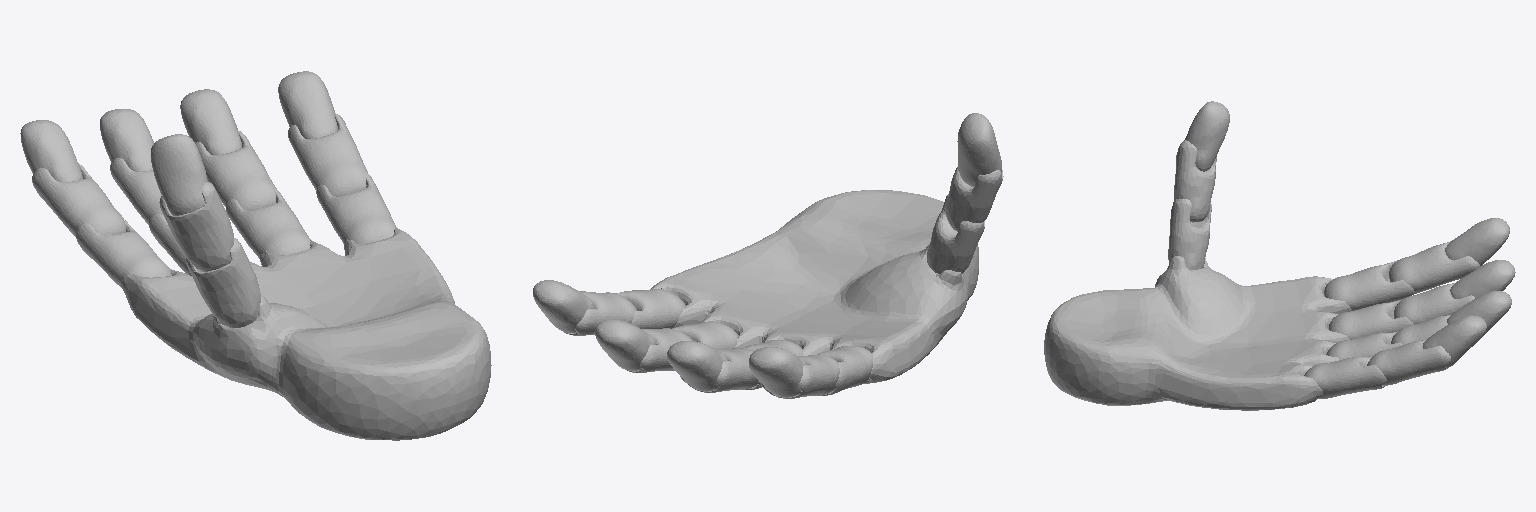
The robot description file, URDF, robot "vr_hand_vhacd_left":
<robot name="vr_hand_vhacd_left">
 <link name="base">
		<inertial>
      <origin xyz="0 -0 0" rpy="-0 0 -0"/>
      <mass value="0.12" />
      <inertia ixx="9.46434e-06" ixy="-0.0" ixz="0.0" iyy="1.22209e-05" iyz="2.49433e-17" izz="1.71183e-05"/>
    </inertial>
	</link>

  <link name="palm">
    <inertial>
      <origin xyz="0 -0 0" rpy="-0 0 -0"/>
      <mass value="0.12"/>
      <inertia ixx="9.46434e-06" ixy="-0.0" ixz="0.0" iyy="1.22209e-05" iyz="2.49433e-17" izz="1.71183e-05"/>
    </inertial>
    <visual>
      <origin xyz="0 -0 0" rpy="-0 0 -0"/>
      <geometry>
        <mesh filename="meshes/palm_mirrored.obj" scale="0.001 0.001 0.001"/>
      </geometry>
      <material name="palm_color">
        <color rgba="0.74902 0.74902 0.74902 1.0"/>
      </material>
    </visual>
    <collision>
      <origin xyz="0 -0 0" rpy="-0 0 -0"/>
      <geometry>
        <mesh filename="vhacd_meshes/palm_mirrored.obj" scale="0.001 0.001 0.001"/>
      </geometry>
    </collision>
  </link>

  <joint name="palm__base" type="fixed">
		<origin xyz="0 -0 0" rpy="-0 0 -0"/>
		<parent link="base"/>
		<child link="palm"/>
  	</joint>
  
  <link name="Rproximal">
    <inertial>
      <origin xyz="-0.00506265498327 -0.000178411167835 -0.0113952992502" rpy="-0 0 -0"/>
      <mass value="0.0046468"/>
      <inertia ixx="3.60659e-07" ixy="-2.95375e-10" ixz="3.96643e-12" iyy="4.02251e-07" iyz="-7.4602e-09" izz="1.59669e-07"/>
    </inertial>
    <visual>
      <origin xyz="0.00532660458173 0.00134315858259 -0.0128298354943" rpy="-0 0 -0"/>
      <geometry>
        <mesh filename="meshes/seg_L_mirrored.obj" scale="0.001 0.001 0.001"/>
      </geometry>
      <material name="Rproximal_color">
        <color rgba="0.74902 0.74902 0.74902 1.0"/>
      </material>
    </visual>
    <collision>
      <origin xyz="0.00532660458173 0.00134315858259 -0.0128298354943" rpy="-0 0 -0"/>
      <geometry>
        <mesh filename="vhacd_meshes/seg_L_mirrored.obj" scale="0.001 0.001 0.001"/>
      </geometry>
    </collision>
  </link>
  
  <joint name="Rproximal__palm" type="revolute">
    <origin xyz="0.017963 0.079365 0.00148931" rpy="1.83998062112 -0.070428847363 -0.101332262919"/>
    <axis xyz="1.00000007251 -8.46220030541e-08 -1.44225053858e-07"/>
    <parent link="base"/>
    <child link="Rproximal"/>
    <limit effort="0.5" lower="0.0" upper="1.4835298642" velocity="1.0"/>
    <dynamics damping="0.1"/>
  </joint>
  
  <link name="Rmiddle">
    <inertial>
      <origin xyz="-0.0050627375168 -0.000178703837342 -0.0113961050151" rpy="-0 0 -0"/>
      <mass value="0.0046468"/>
      <inertia ixx="3.60659e-07" ixy="-2.95375e-10" ixz="3.96643e-12" iyy="4.02251e-07" iyz="-7.4602e-09" izz="1.59669e-07"/>
    </inertial>
    <visual>
      <origin xyz="0.00532662722179 0.00134303584663 -0.0128300831679" rpy="-0 0 -0"/>
      <geometry>
        <mesh filename="meshes/seg_finger_tip_mirrored.obj" scale="0.001 0.001 0.001"/>
      </geometry>
      <material name="Rmiddle_color">
        <color rgba="0.74902 0.74902 0.74902 1.0"/>
      </material>
    </visual>
    <collision>
      <origin xyz="0.00532662722179 0.00134303584663 -0.0128300831679" rpy="-0 0 -0"/>
      <geometry>
        <mesh filename="vhacd_meshes/seg_finger_tip_mirrored.obj" scale="0.001 0.001 0.001"/>
      </geometry>
    </collision>
  </link>
  
  <joint name="Rmiddle__Rproximal" type="revolute">
    <origin xyz="0 -0 -0.0258747809103" rpy="0.0872670609142 0 -2.76912342671e-07"/>
    <axis xyz="1.00000007251 1.72767385245e-07 -2.31542720386e-07"/>
    <parent link="Rproximal"/>
    <child link="Rmiddle"/>
    <limit effort="0.5" lower="0.0" upper="1.4835298642" velocity="1.0"/>
    <dynamics damping="0.1"/>
  </joint>
  
  <link name="Mproximal">
    <inertial>
      <origin xyz="-0.00506268032219 -0.000178369758776 -0.0113951959251" rpy="-0 0 -0"/>
      <mass value="0.0046468"/>
      <inertia ixx="3.60659e-07" ixy="-2.95375e-10" ixz="3.96643e-12" iyy="4.02251e-07" iyz="-7.4602e-09" izz="1.59669e-07"/>
    </inertial>
    <visual>
      <origin xyz="0.00532660055243 0.00134318776557 -0.0128295627043" rpy="-0 0 -0"/>
      <geometry>
        <mesh filename="meshes/seg_L_mirrored.obj" scale="0.001 0.001 0.001"/>
      </geometry>
      <material name="Mproximal_color">
        <color rgba="0.74902 0.74902 0.74902 1.0"/>
      </material>
    </visual>
    <collision>
      <origin xyz="0.00532660055243 0.00134318776557 -0.0128295627043" rpy="-0 0 -0"/>
      <geometry>
        <mesh filename="vhacd_meshes/seg_L_mirrored.obj" scale="0.001 0.001 0.001"/>
      </geometry>
    </collision>
  </link>
  
  <joint name="Mproximal__palm" type="revolute">
    <origin xyz="-0.00678586 0.080973 0.00076618" rpy="1.83324870939 0.0859369188285 0.0151906736407"/>
    <axis xyz="1.00000030441 -5.71235363176e-07 -2.22119205119e-07"/>
    <parent link="base"/>
    <child link="Mproximal"/>
    <limit effort="0.5" lower="0.0" upper="1.4835298642" velocity="1.0"/>
    <dynamics damping="0.1"/>
  </joint>
  
  <link name="Mmiddle">
    <inertial>
      <origin xyz="-0.00506269201108 -0.000178473714736 -0.0113956264739" rpy="-0 0 -0"/>
      <mass value="0.0046468"/>
      <inertia ixx="3.60659e-07" ixy="-2.95375e-10" ixz="3.96643e-12" iyy="4.02251e-07" iyz="-7.4602e-09" izz="1.59669e-07"/>
    </inertial>
    <visual>
      <origin xyz="0.00532662940519 0.001342939287 -0.012830098266" rpy="-0 0 -0"/>
      <geometry>
        <mesh filename="meshes/seg_finger_tip_mirrored.obj" scale="0.001 0.001 0.001"/>
      </geometry>
      <material name="Mmiddle_color">
        <color rgba="0.74902 0.74902 0.74902 1.0"/>
      </material>
    </visual>
    <collision>
      <origin xyz="0.00532662940519 0.001342939287 -0.012830098266" rpy="-0 0 -0"/>
      <geometry>
        <mesh filename="vhacd_meshes/seg_finger_tip_mirrored.obj" scale="0.001 0.001 0.001"/>
      </geometry>
    </collision>
  </link>
  
  <joint name="Mmiddle__Mproximal" type="revolute">
    <origin xyz="0 2.41651877793e-07 -0.0258742142625" rpy="0.0872661749543 2.70259221066e-07 -3.1679265362e-07"/>
    <axis xyz="1.00000030441 -2.49278715942e-07 7.0132973715e-08"/>
    <parent link="Mproximal"/>
    <child link="Mmiddle"/>
    <limit effort="0.5" lower="0.0" upper="1.4835298642" velocity="1.0"/>
    <dynamics damping="0.1"/>
  </joint>
  
  <link name="Pproximal">
    <inertial>
      <origin xyz="-0.00506265004772 -0.000178471691603 -0.0113954440839" rpy="-0 0 -0"/>
      <mass value="0.0046468"/>
      <inertia ixx="3.60659e-07" ixy="-2.95375e-10" ixz="3.96643e-12" iyy="4.02251e-07" iyz="-7.4602e-09" izz="1.59669e-07"/>
    </inertial>
    <visual>
      <origin xyz="0.00532669695333 0.00134327559708 -0.0128292006118" rpy="-0 0 -0"/>
      <geometry>
        <mesh filename="meshes/seg_L_mirrored.obj" scale="0.001 0.001 0.001"/>
      </geometry>
      <material name="Pproximal_color">
        <color rgba="0.74902 0.74902 0.74902 1.0"/>
      </material>
    </visual>
    <collision>
      <origin xyz="0.00532669695333 0.00134327559708 -0.0128292006118" rpy="-0 0 -0"/>
      <geometry>
        <mesh filename="vhacd_meshes/seg_L_mirrored.obj" scale="0.001 0.001 0.001"/>
      </geometry>
    </collision>
  </link>
  
  <joint name="Pproximal__palm" type="revolute">
    <origin xyz="0.0426264 0.070128 0.0038631" rpy="1.86212856709 -0.138702648968 -0.204065548896"/>
    <axis xyz="0.999999718358 -2.63813422101e-07 1.77932631934e-07"/>
    <parent link="base"/>
    <child link="Pproximal"/>
    <limit effort="0.5" lower="0.0" upper="1.4835298642" velocity="1.0"/>
    <dynamics damping="0.1"/>
  </joint>
  
  <link name="Pmiddle">
    <inertial>
      <origin xyz="-0.00506271792241 -0.000178454269957 -0.0113956275282" rpy="-0 0 -0"/>
      <mass value="0.0046468"/>
      <inertia ixx="3.60659e-07" ixy="-2.95375e-10" ixz="3.96643e-12" iyy="4.02251e-07" iyz="-7.4602e-09" izz="1.59669e-07"/>
    </inertial>
    <visual>
      <origin xyz="0.00532646642137 0.00134299429342 -0.0128302748856" rpy="-0 0 -0"/>
      <geometry>
        <mesh filename="meshes/seg_finger_tip_mirrored.obj" scale="0.001 0.001 0.001"/>
      </geometry>
      <material name="Pmiddle_color">
        <color rgba="0.74902 0.74902 0.74902 1.0"/>
      </material>
    </visual>
    <collision>
      <origin xyz="0.00532646642137 0.00134299429342 -0.0128302748856" rpy="-0 0 -0"/>
      <geometry>
        <mesh filename="vhacd_meshes/seg_finger_tip_mirrored.obj" scale="0.001 0.001 0.001"/>
      </geometry>
    </collision>
  </link>
  
  <joint name="Pmiddle__Pproximal" type="revolute">
    <origin xyz="1.71429768873e-07 -0 -0.0258743732015" rpy="0.0872666026479 1.06320174575e-07 -0"/>
    <axis xyz="0.999999718358 -2.69819360882e-07 3.08944752836e-07"/>
    <parent link="Pproximal"/>
    <child link="Pmiddle"/>
    <limit effort="0.5" lower="0.0" upper="1.4835298642" velocity="1.0"/>
    <dynamics damping="0.1"/>
  </joint>
  
  <link name="Tproximal">
    <inertial>
      <origin xyz="-0.00509118037371 0.000108367330619 -0.00917567646424" rpy="-0 0 -0"/>
      <mass value="0.00379261"/>
      <inertia ixx="3.44891e-07" ixy="5.85841e-09" ixz="-1.40349e-09" iyy="2.90581e-07" iyz="9.57879e-09" izz="2.1814e-07"/>
    </inertial>
    <visual>
      <origin xyz="-0.00506247937312 -1.51098425411e-07 -0.00864845498031" rpy="-0 0 -0"/>
      <geometry>
        <mesh filename="meshes/seg_M_mirrored.obj" scale="0.001 0.001 0.001"/>
      </geometry>
      <material name="Tproximal_color">
        <color rgba="0.74902 0.74902 0.74902 1.0"/>
      </material>
    </visual>
    <collision>
      <origin xyz="-0.00506247937312 -1.51098425411e-07 -0.00864845498031" rpy="-0 0 -0"/>
      <geometry>
        <mesh filename="vhacd_meshes/seg_M_mirrored.obj" scale="0.001 0.001 0.001"/>
      </geometry>
    </collision>
  </link>
  
  <joint name="Tproximal__palm" type="revolute">
    <origin xyz="-0.041263 0.024646 0.0157" rpy="2.9762 0.36199 2.4578"/>
    <axis xyz="1.00000015905 4.04301755325e-07 1.03967894405e-07"/>
    <parent link="base"/>
    <child link="Tproximal"/>
    <limit effort="0.5" lower="0.0" upper="1.57079632679" velocity="1.0"/>
    <dynamics damping="0.1"/>
  </joint>
  
  <link name="Tmiddle">
    <inertial>
      <origin xyz="-0.00509145714593 0.000109508075581 -0.00917619264503" rpy="-0 0 -0"/>
      <mass value="0.00379261"/>
      <inertia ixx="3.44891e-07" ixy="5.85841e-09" ixz="-1.40349e-09" iyy="2.90581e-07" iyz="9.57879e-09" izz="2.1814e-07"/>
    </inertial>
    <visual>
      <origin xyz="-0.00506255005155 3.30490933204e-07 -0.00864867274502" rpy="-0 0 -0"/>
      <geometry>
        <mesh filename="meshes/seg_thumb_tip_mirrored.obj" scale="0.001 0.001 0.001"/>
      </geometry>
      <material name="Tmiddle_color">
        <color rgba="0.74902 0.74902 0.74902 1.0"/>
      </material>
    </visual>
    <collision>
      <origin xyz="-0.00506255005155 3.30490933204e-07 -0.00864867274502" rpy="-0 0 -0"/>
      <geometry>
        <mesh filename="vhacd_meshes/seg_thumb_tip_mirrored.obj" scale="0.001 0.001 0.001"/>
      </geometry>
    </collision>
  </link>
  
  <joint name="Tmiddle__Tproximal" type="revolute">
    <origin xyz="1.61327491782e-07 -6.88063125837e-07 -0.0215856949813" rpy="0.00953533375442 -2.2361018211e-07 5.28725690007e-07"/>
    <axis xyz="1.00000015905 -1.25559174474e-07 -1.18450477621e-07"/>
    <parent link="Tproximal"/>
    <child link="Tmiddle"/>
    <limit effort="0.5" lower="0.0" upper="1.57079632679" velocity="1.0"/>
    <dynamics damping="0.1"/>
  </joint>

  <link name="Iproximal">
    <inertial>
      <origin xyz="-0.00506269303095 -0.000178661194879 -0.0113960183486" rpy="-0 0 -0"/>
      <mass value="0.0046468"/>
      <inertia ixx="3.60659e-07" ixy="-2.95375e-10" ixz="3.96643e-12" iyy="4.02251e-07" iyz="-7.4602e-09" izz="1.59669e-07"/>
    </inertial>
    <visual>
      <origin xyz="0.00532665437356 0.00134306865084 -0.0128298343462" rpy="-0 0 -0"/>
      <geometry>
        <mesh filename="meshes/seg_L_mirrored.obj" scale="0.001 0.001 0.001"/>
      </geometry>
      <material name="Iproximal_color">
        <color rgba="0.74902 0.74902 0.74902 1.0"/>
      </material>
    </visual>
    <collision>
      <origin xyz="0.00532665437356 0.00134306865084 -0.0128298343462" rpy="-0 0 -0"/>
      <geometry>
        <mesh filename="vhacd_meshes/seg_L_mirrored.obj" scale="0.001 0.001 0.001"/>
      </geometry>
    </collision>
  </link>
  
  <joint name="Iproximal__palm" type="revolute">
    <origin xyz="-0.0318425 0.079883 0.00351788" rpy="1.84942615384 0.155854888307 0.117563434836"/>
    <axis xyz="0.999999806433 -3.11064646163e-07 1.92575397934e-07"/>
    <parent link="base"/>
    <child link="Iproximal"/>
    <limit effort="0.5" lower="0.0" upper="1.4835298642" velocity="1.0"/>
    <dynamics damping="0.1"/>
  </joint>
  
  <link name="Imiddle">
    <inertial>
      <origin xyz="-0.00506266070615 -0.000178528721729 -0.0113957955067" rpy="-0 0 -0"/>
      <mass value="0.0046468"/>
      <inertia ixx="3.60659e-07" ixy="-2.95375e-10" ixz="3.96643e-12" iyy="4.02251e-07" iyz="-7.4602e-09" izz="1.59669e-07"/>
    </inertial>
    <visual>
      <origin xyz="0.00532665674393 0.00134322760034 -0.012829627881" rpy="-0 0 -0"/>
      <geometry>
        <mesh filename="meshes/seg_finger_tip_mirrored.obj" scale="0.001 0.001 0.001"/>
      </geometry>
      <material name="Imiddle_color">
        <color rgba="0.74902 0.74902 0.74902 1.0"/>
      </material>
    </visual>
    <collision>
      <origin xyz="0.00532665674393 0.00134322760034 -0.012829627881" rpy="-0 0 -0"/>
      <geometry>
        <mesh filename="vhacd_meshes/seg_finger_tip_mirrored.obj" scale="0.001 0.001 0.001"/>
      </geometry>
    </collision>
  </link>
  
  <joint name="Imiddle__Iproximal" type="revolute">
    <origin xyz="0 -0 -0.0258750517122" rpy="0.0872662181335 -6.1944905734e-07 -4.44119679405e-07"/>
    <axis xyz="0.999999806433 9.5344259203e-08 -4.3684563622e-07"/>
    <parent link="Iproximal"/>
    <child link="Imiddle"/>
    <limit effort="0.5" lower="0.0" upper="1.4835298642" velocity="1.0"/>
    <dynamics damping="0.1"/>
  </joint>
</robot>

--- Facts derived from the render (not from the file) ---
Views: 3 orthographic renders of the robot side by side, from view 1: azimuth 30°, elevation 25°; view 2: azimuth 150°, elevation 25°; view 3: azimuth 270°, elevation 25°.
Model vr_hand_vhacd_left with 12 links and 11 joints (10 revolute, 1 fixed), rooted at base, posed every joint at zero.
Links seen in each view (by area): view 1: palm, Tmiddle, Pmiddle, Rmiddle, Imiddle, Mmiddle, Tproximal, Rproximal, Pproximal, Iproximal, Mproximal; view 2: palm, Tmiddle, Pmiddle, Imiddle, Mmiddle, Rmiddle, Tproximal, Pproximal, Iproximal, Rproximal; view 3: palm, Imiddle, Tmiddle, Pmiddle, Mmiddle, Iproximal, Pproximal, Tproximal, Rmiddle, Mproximal, Rproximal.
Boxes of the visible links, x1,y1,x2,y2 form: palm: (120, 227, 491, 440); Tmiddle: (151, 134, 233, 271); Pmiddle: (278, 71, 367, 196); Rmiddle: (180, 89, 276, 209); Imiddle: (20, 120, 125, 236); Mmiddle: (100, 109, 164, 224); Tproximal: (186, 238, 260, 327); Rproximal: (226, 189, 310, 258); Pproximal: (316, 174, 395, 243); Iproximal: (76, 220, 171, 287); Mproximal: (149, 214, 188, 274); palm: (651, 190, 978, 383); Tmiddle: (945, 113, 1003, 231); Pmiddle: (533, 280, 636, 335); Imiddle: (749, 347, 839, 398); Mmiddle: (667, 341, 757, 392); Rmiddle: (595, 319, 692, 372); Tproximal: (927, 194, 984, 273); Pproximal: (615, 289, 685, 328); Iproximal: (817, 346, 872, 395); Rproximal: (672, 321, 738, 349); palm: (1044, 256, 1351, 410); Imiddle: (1389, 218, 1509, 293); Tmiddle: (1174, 101, 1229, 222); Pmiddle: (1367, 315, 1486, 385); Mmiddle: (1394, 260, 1515, 324); Iproximal: (1324, 260, 1414, 310); Pproximal: (1304, 357, 1386, 398); Tproximal: (1168, 199, 1211, 269); Rmiddle: (1391, 291, 1511, 344); Mproximal: (1329, 299, 1413, 339); Rproximal: (1326, 331, 1402, 359).
Size in the robot's own frame: 0.1163 by 0.1798 by 0.0911 metres.
11 mesh visuals loaded from 5 distinct referenced files (5 OBJ).